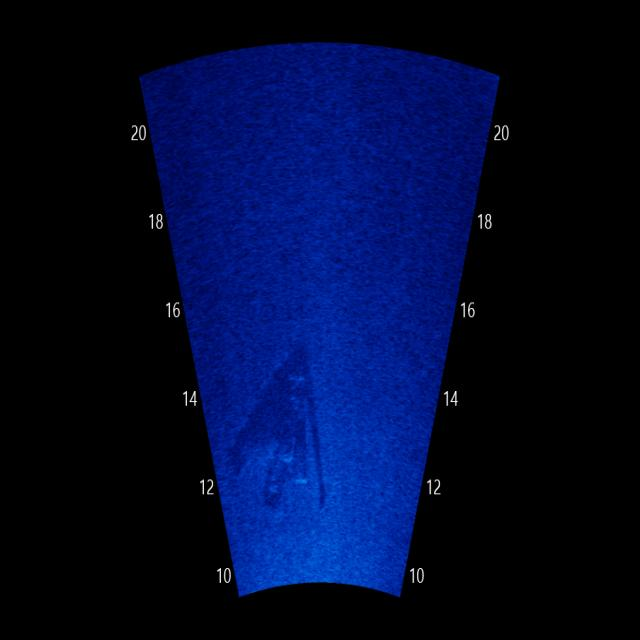triangle: (214, 349, 346, 526)
